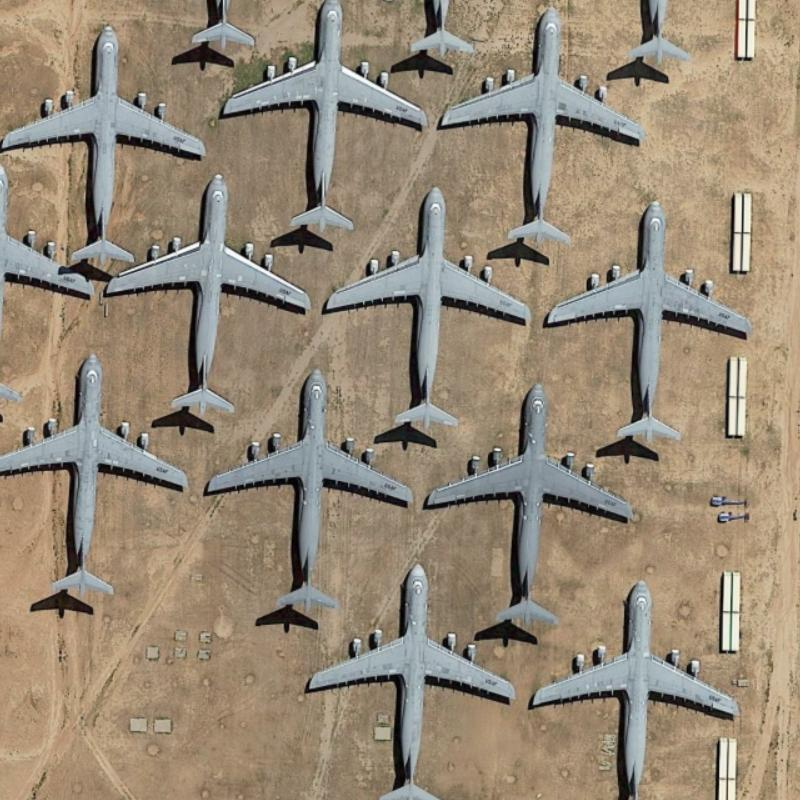A4: (422, 377, 641, 630), (542, 193, 756, 446), (203, 364, 417, 617), (295, 558, 519, 799), (320, 182, 536, 429), (98, 172, 315, 417), (433, 2, 648, 247), (1, 17, 212, 265), (214, 0, 431, 238), (3, 350, 192, 612), (527, 568, 744, 794)
